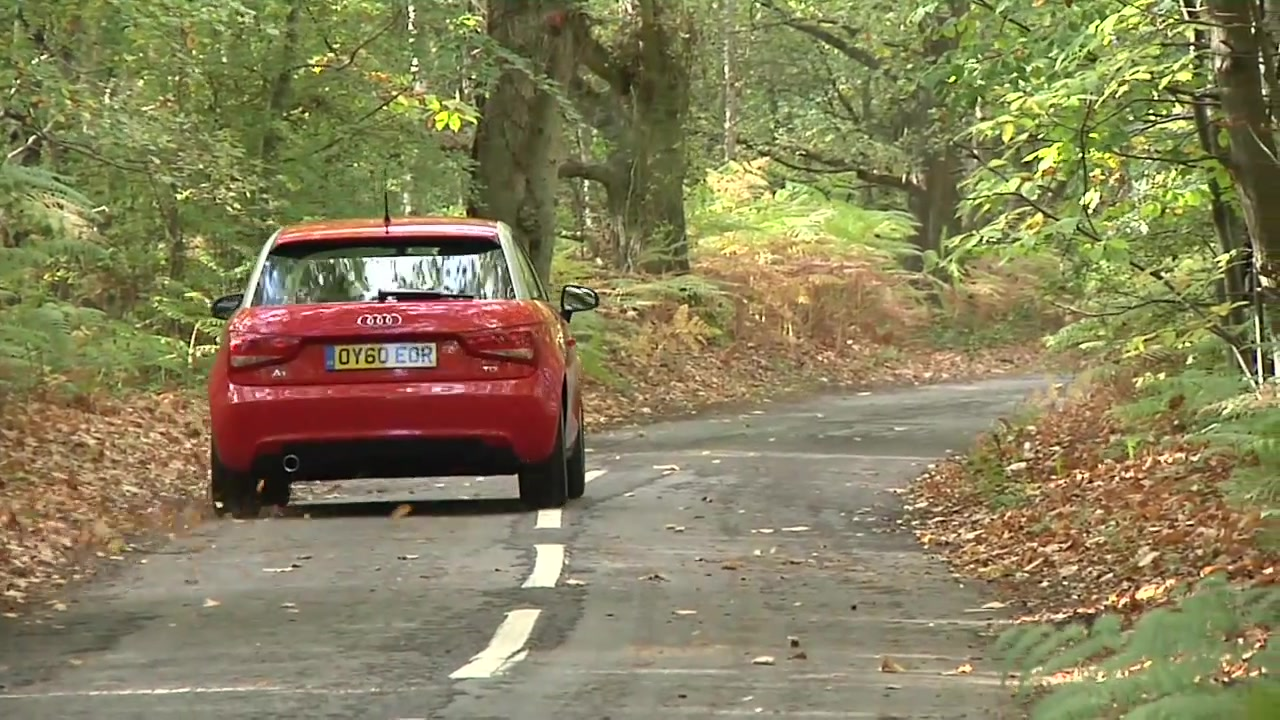car: (207, 218, 602, 517)
